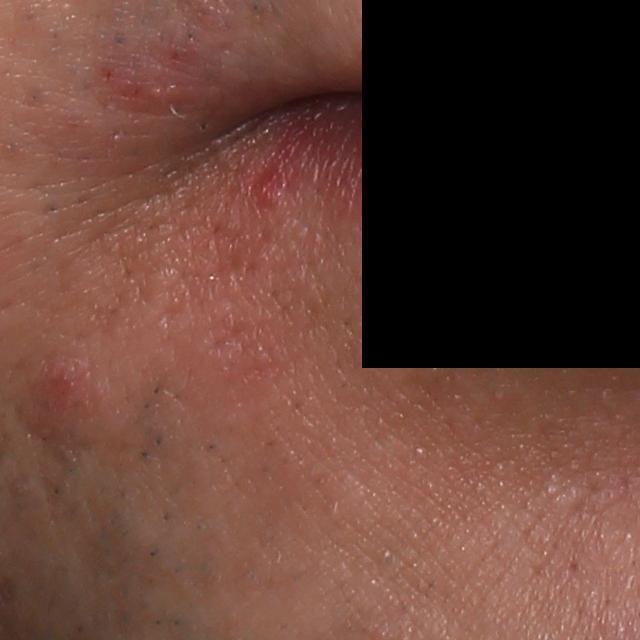papule: (37, 353, 105, 432), (246, 162, 296, 210)
